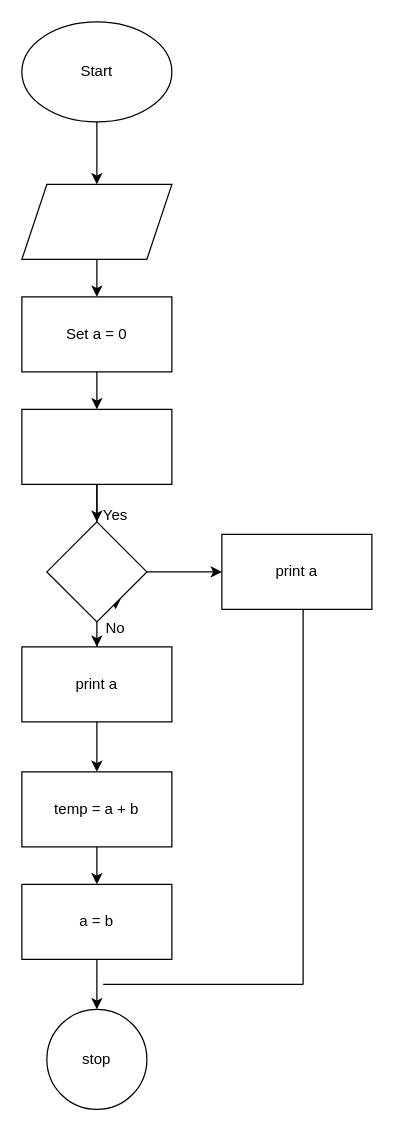
This 394x1131 diagram has some shape labels left out. Here are the shapes that lost their labels. From the top down, the box of each, then its label:
(21, 183, 172, 259): Input n
(21, 408, 172, 484): Set b = 1
(46, 521, 147, 622): is i < n
